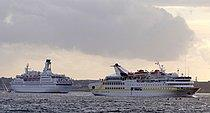Ship: (87, 58, 204, 102), (7, 54, 78, 97)
